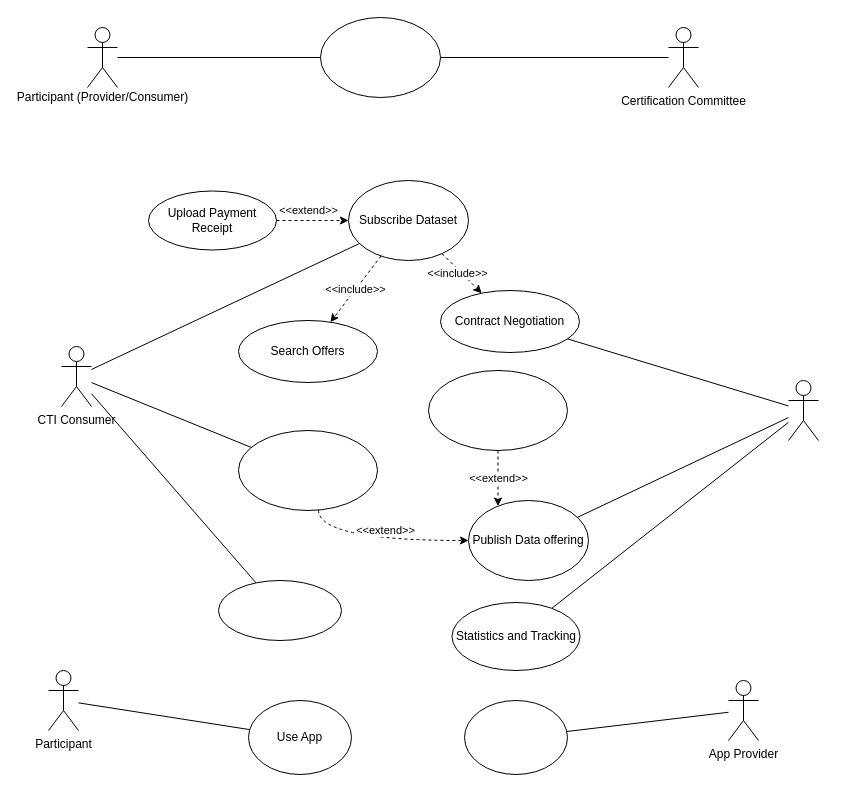
Image size: 854x792. Some labels were removed from this diagram. The shapes that lost their labels are listed below. From the top down, each one's centre as x and y in pixels, then its label:
(380,57): On Boarding
(498,410): Check Participants
(803,410): CTI Provider
(308,470): Read/Manipulate Shared Vocabularies
(280,610): Feedback and Review
(516,737): Publish App
